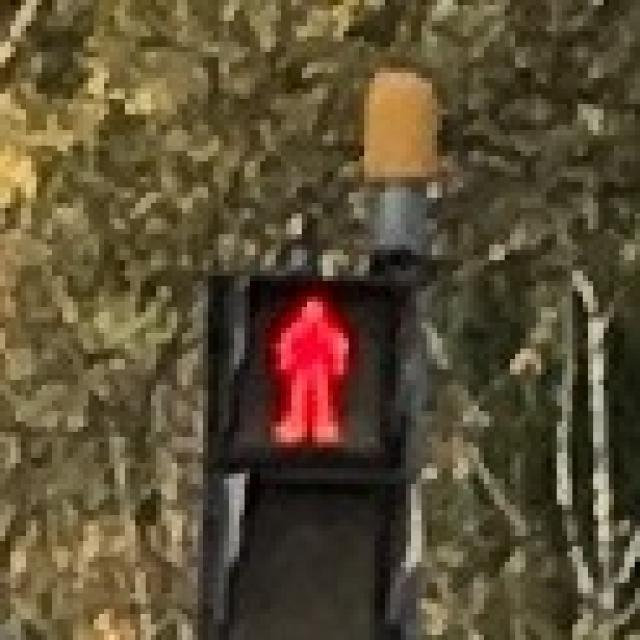red-crossing: (218, 265, 396, 463)
